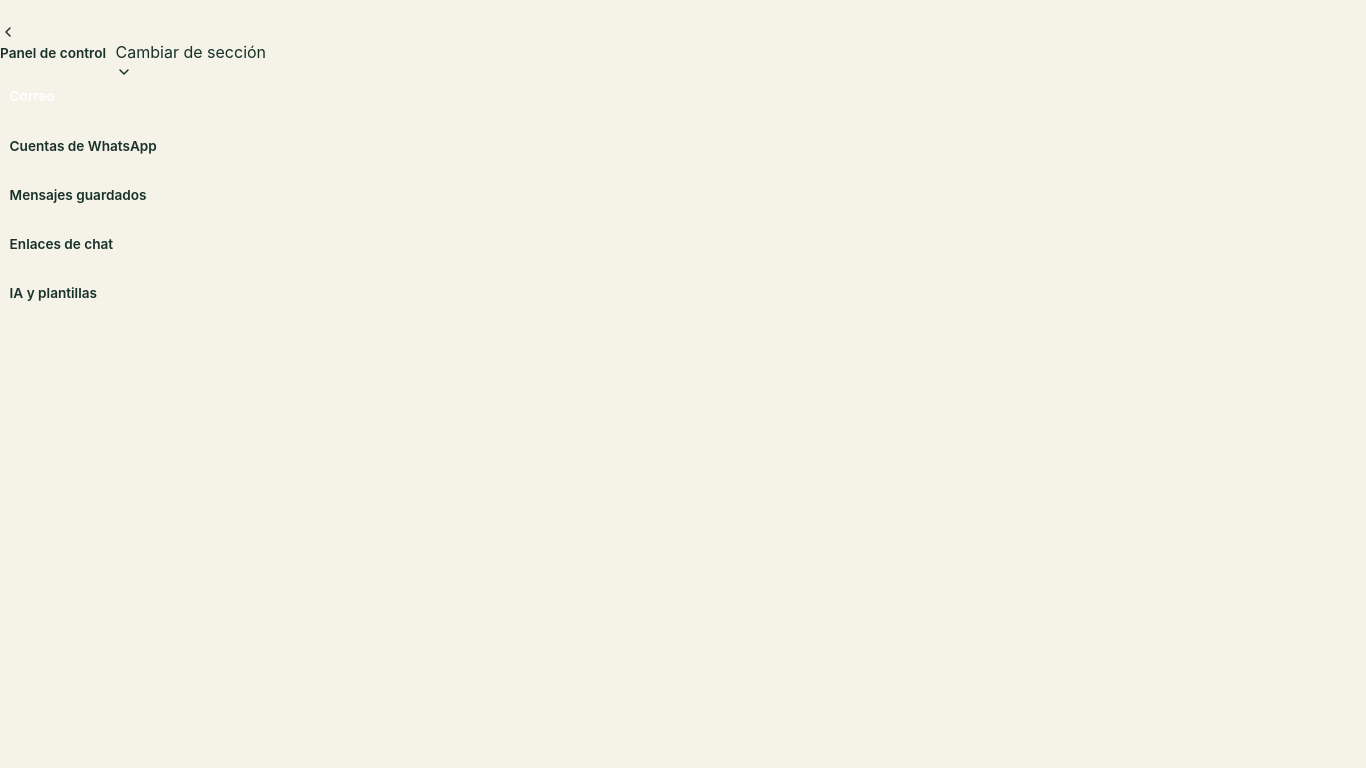
Scenario: SettingsTabs en pantalla angosta › la hoja abre con todo agrupado, marca la actual y se cierra con Escape devolviendo el foco
Click the button "Cambiar de sección". click: (191, 60)
box: x1=116 y1=40 x2=266 y2=80
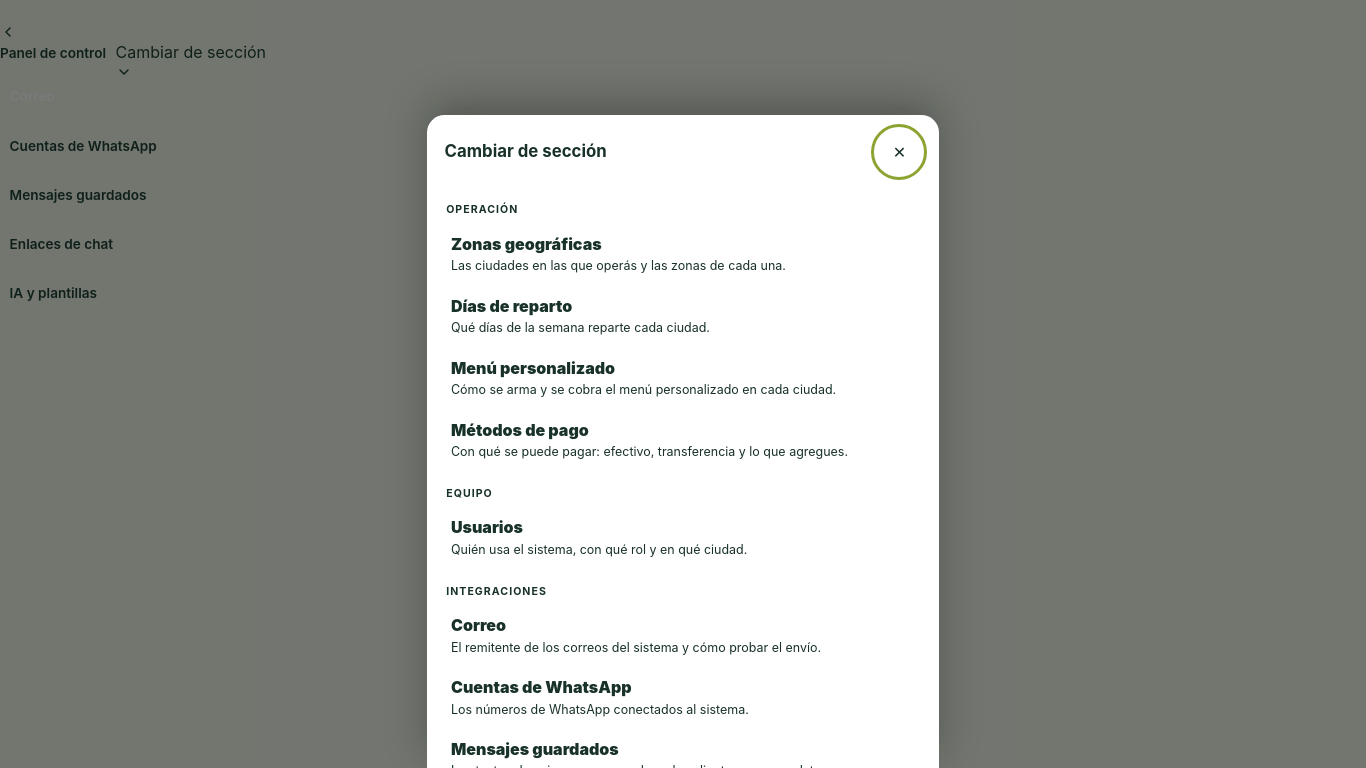
Now the button "Cambiar de sección" is expanded, box x1=116 y1=40 x2=266 y2=80
Now the text "Operación" is shown, box x1=446 y1=203 x2=518 y2=216
Press Escape in the dialog "Cambiar de sección", box x1=427 y1=115 x2=939 y2=767
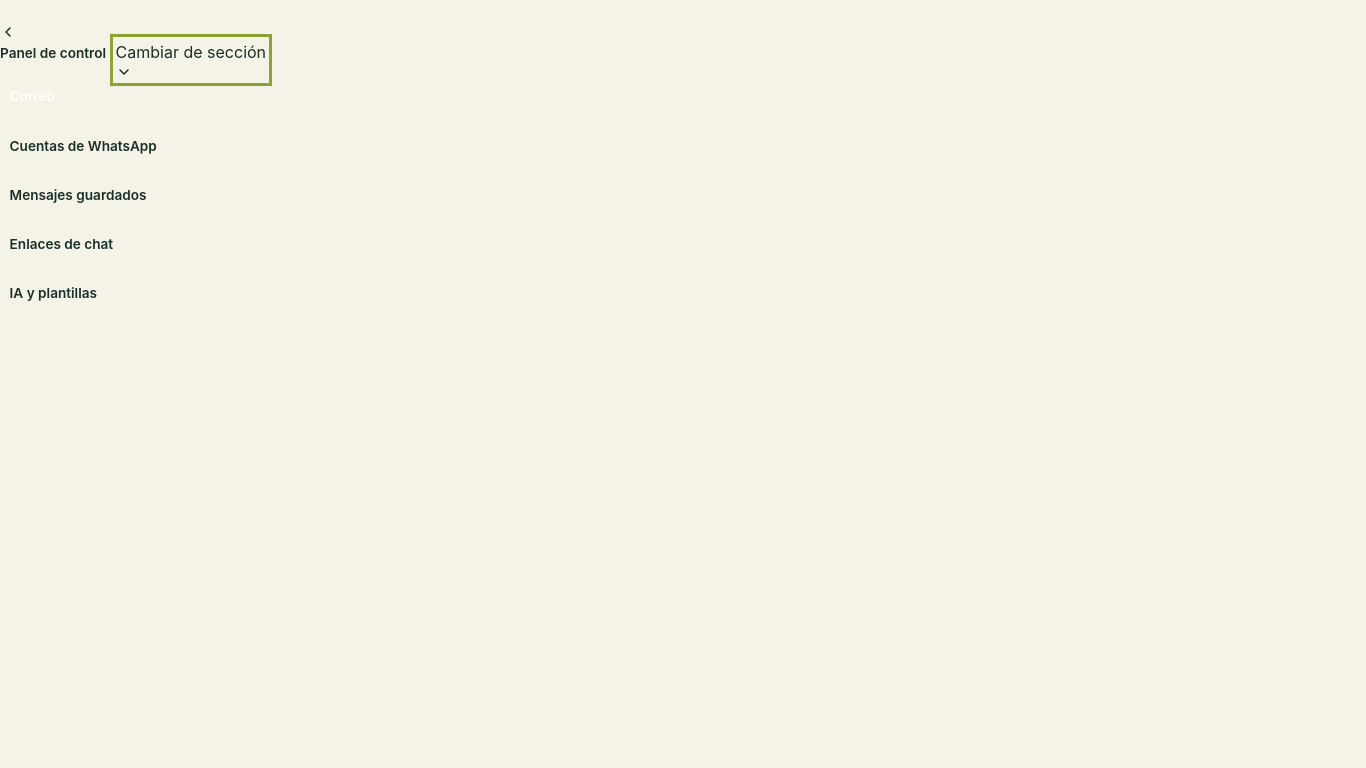
Now the dialog is gone
